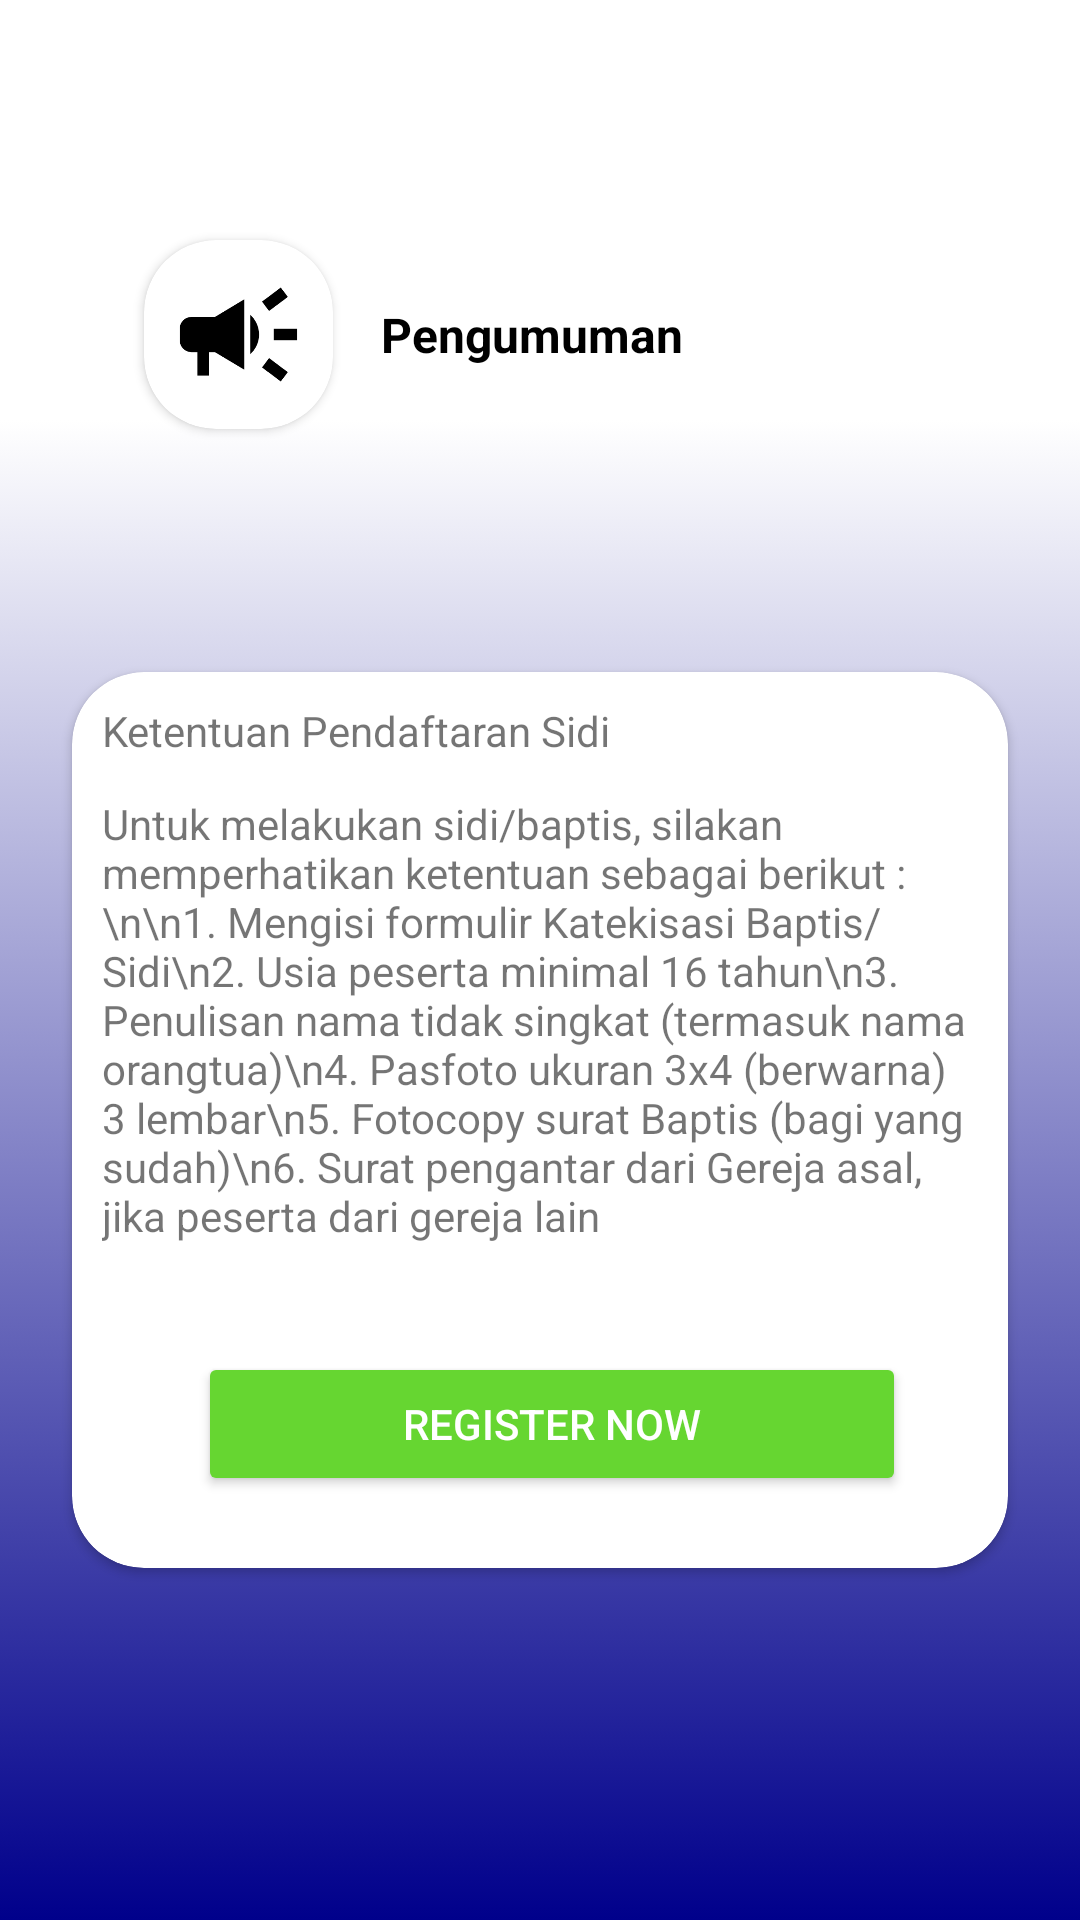

Screen size 1080px×1920px. Icon name, then its box in pixels as (x1, y1, x2, y2):
warta: (180, 287, 297, 382)
